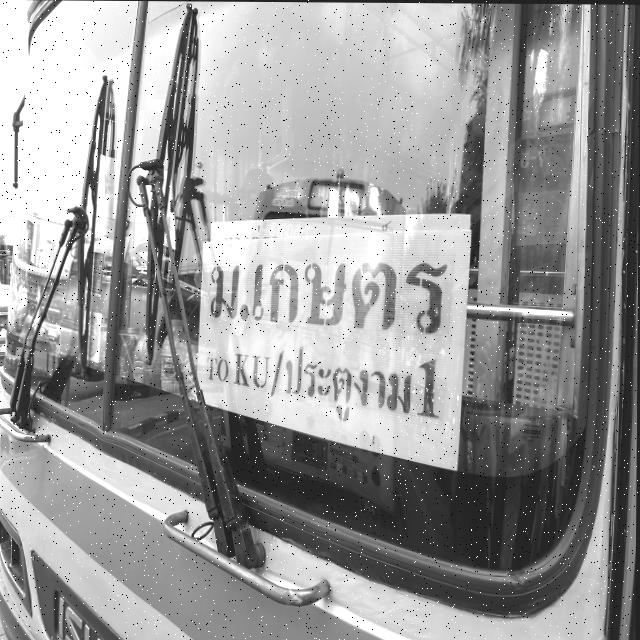BMTA-bus: (0, 0, 640, 640)
Destination-Sign-Extra-Bus-Expressway: (198, 212, 465, 476)
